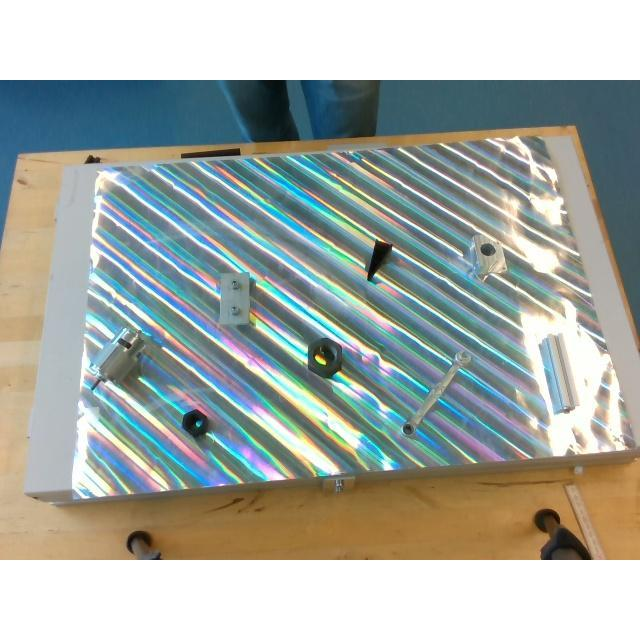F20_20_G: (542, 332, 582, 412)
M20: (181, 408, 207, 436)
M30: (306, 338, 342, 376)
Motor2: (90, 326, 142, 386)
Wrench: (401, 351, 472, 435)
